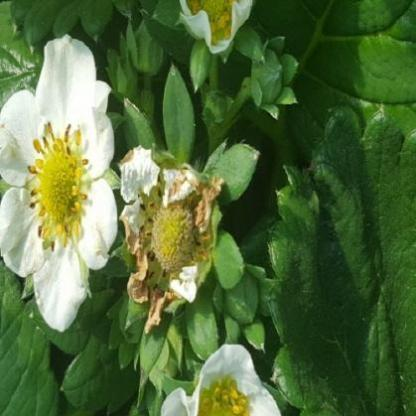Strawberry_Blossom_Blight: (136, 170, 211, 298), (25, 121, 91, 256)
